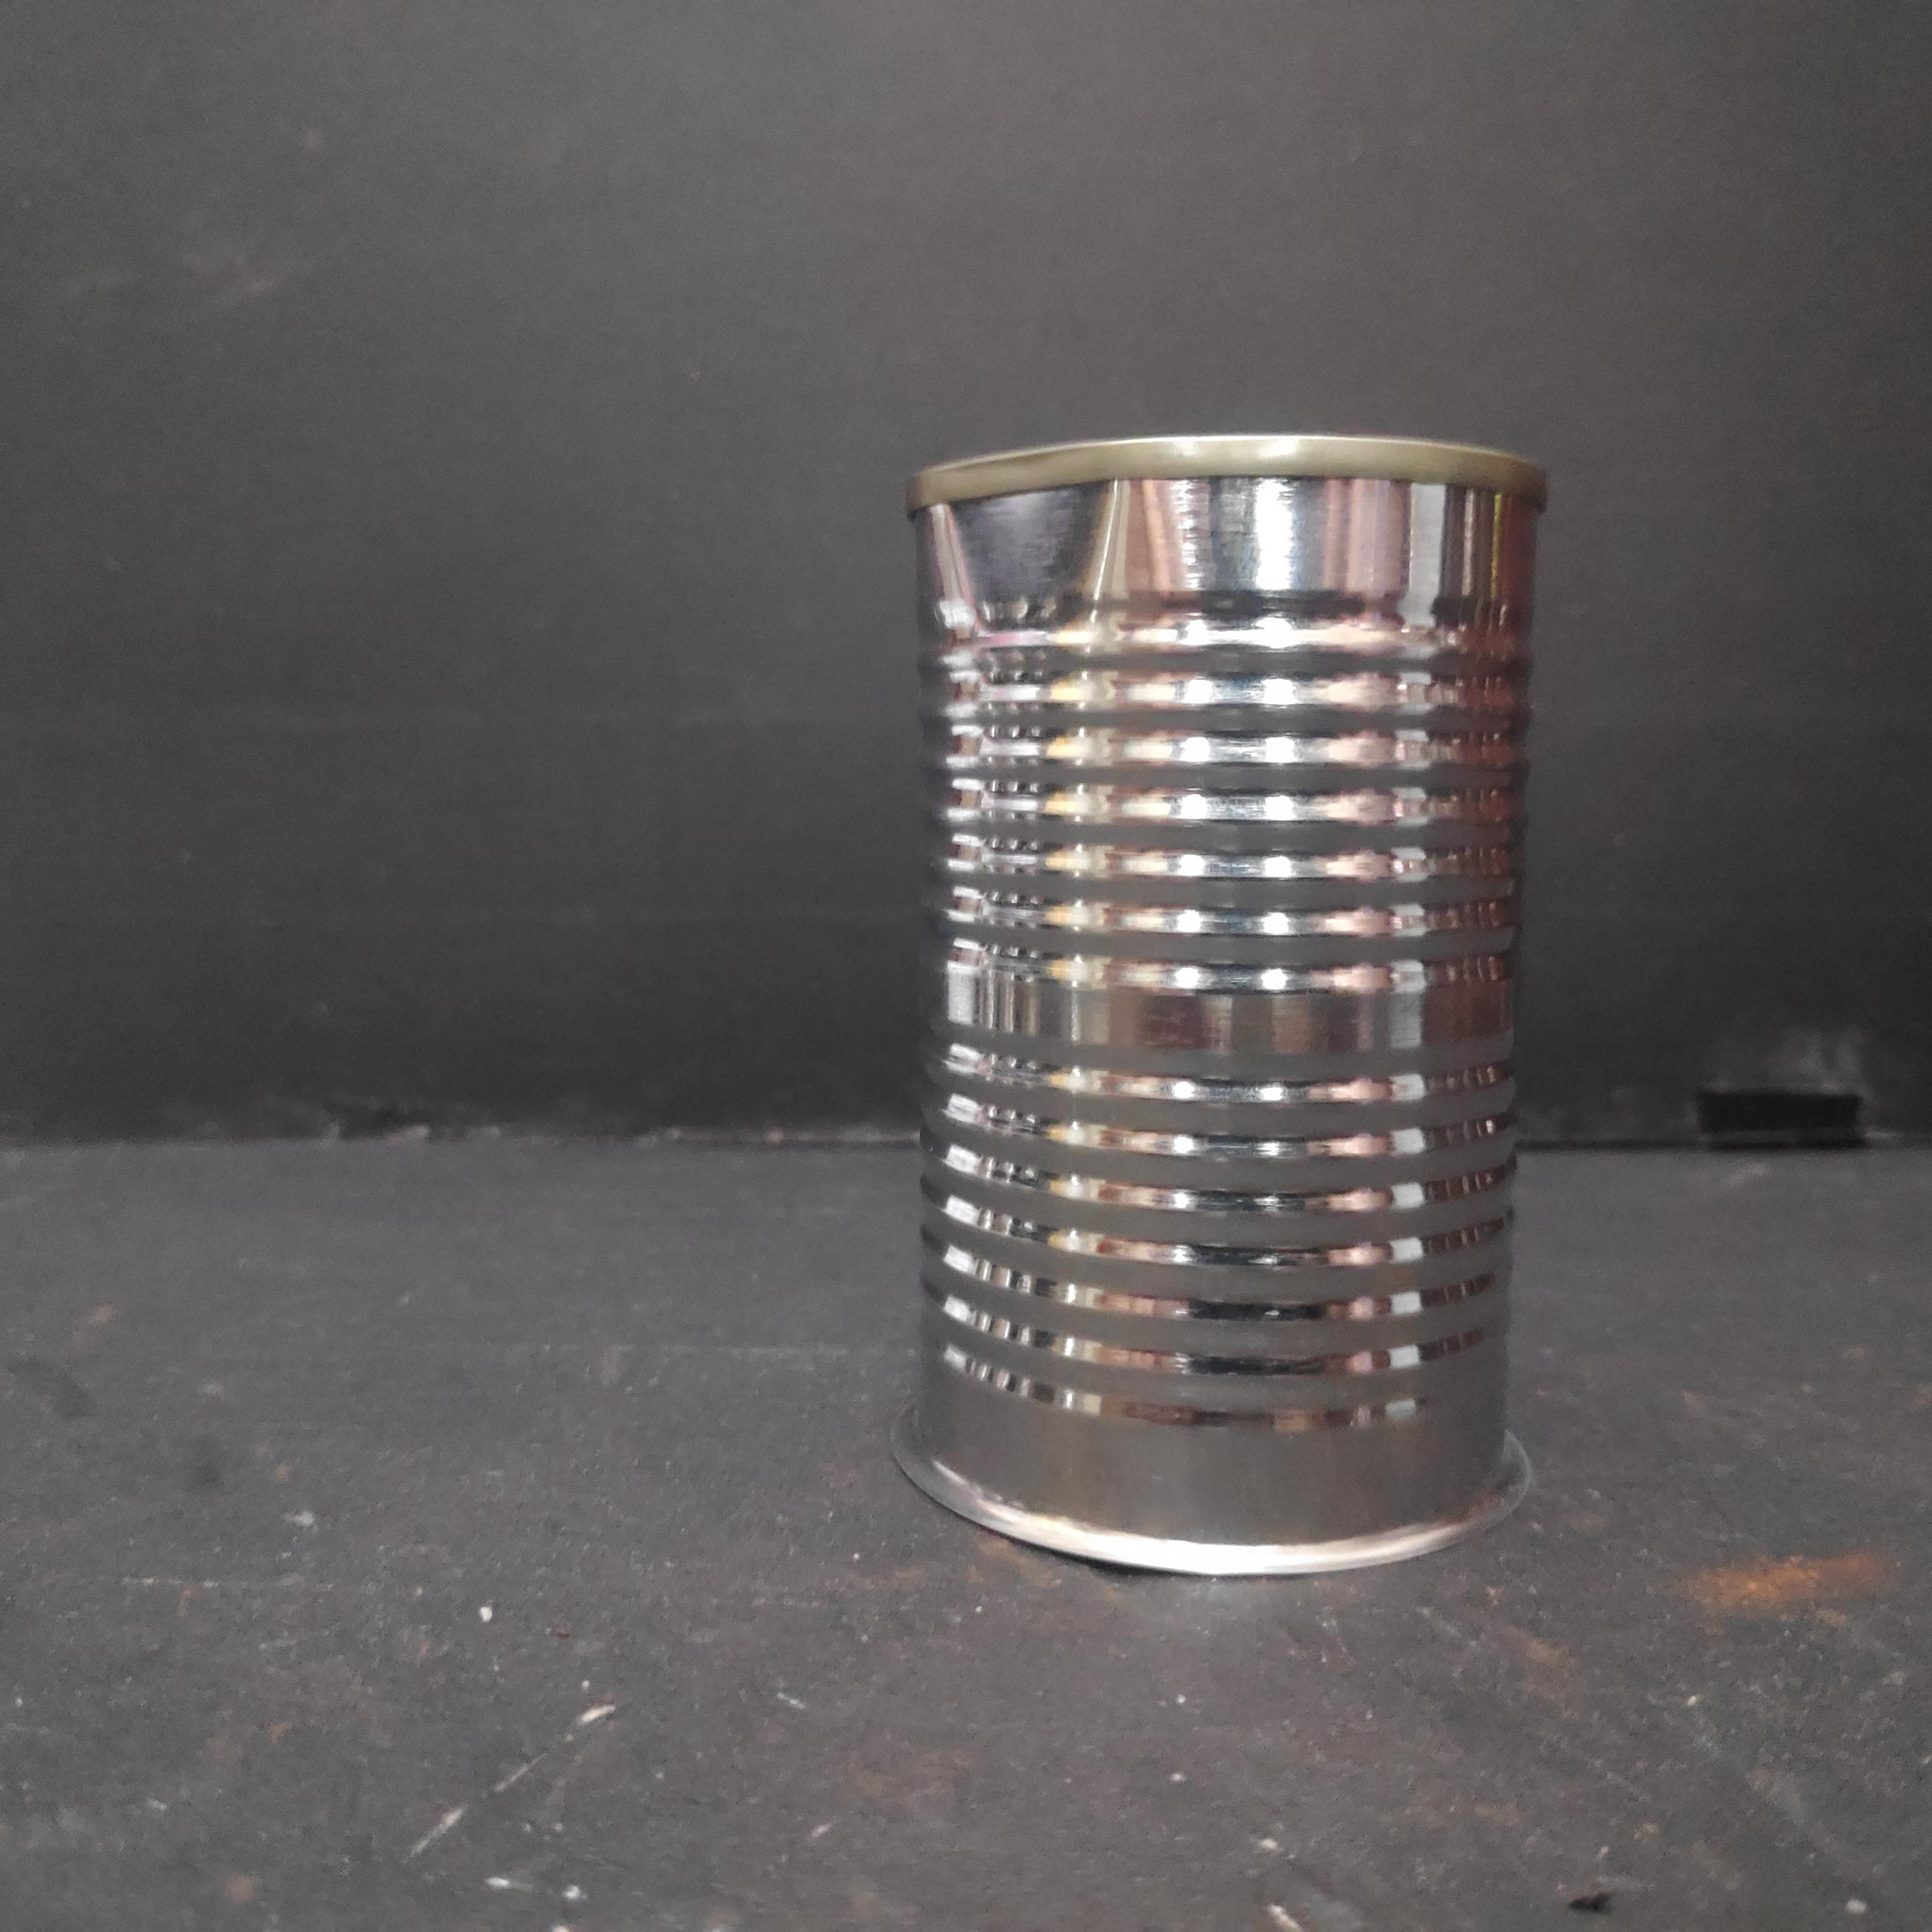Minor Defect: (899, 429, 1555, 1587)
